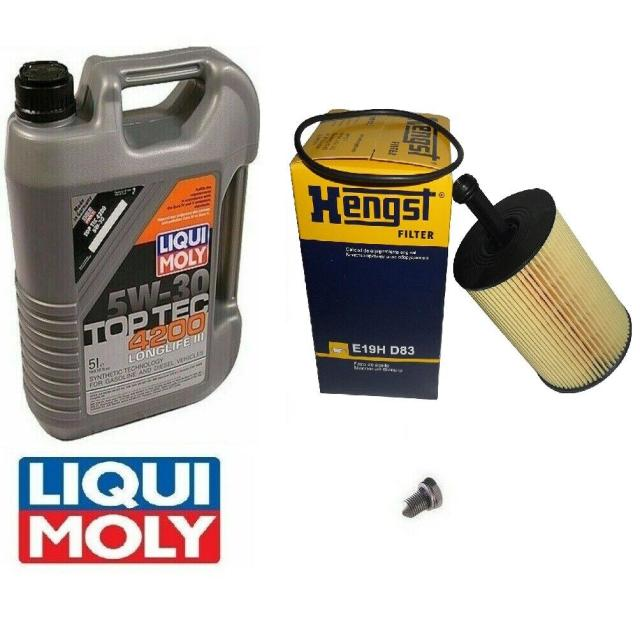motor_oil: (0, 41, 265, 442)
oil_filter: (449, 169, 640, 399)
